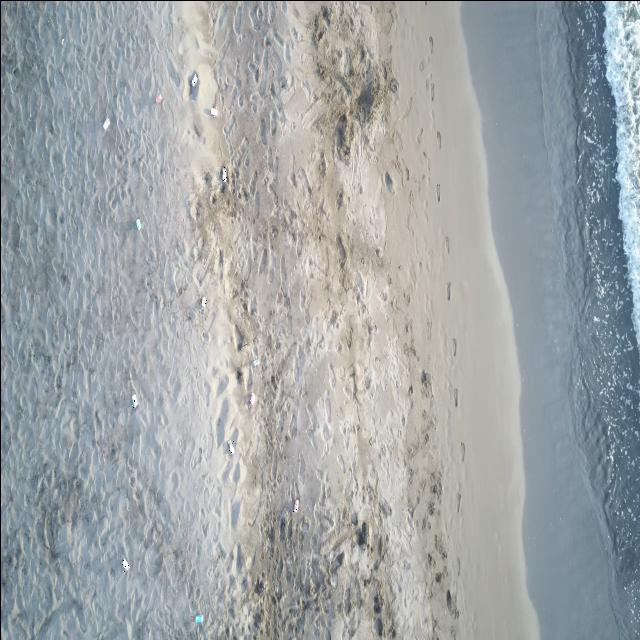Garbage: (188, 71, 199, 99), (247, 392, 256, 406), (190, 71, 198, 85), (121, 559, 128, 572), (195, 613, 203, 624), (220, 167, 226, 181), (200, 296, 207, 308), (252, 357, 260, 367), (208, 108, 218, 116), (227, 440, 233, 453), (292, 499, 298, 512), (103, 118, 110, 129), (131, 393, 136, 407), (155, 92, 161, 103), (135, 219, 140, 230), (60, 37, 63, 44)
